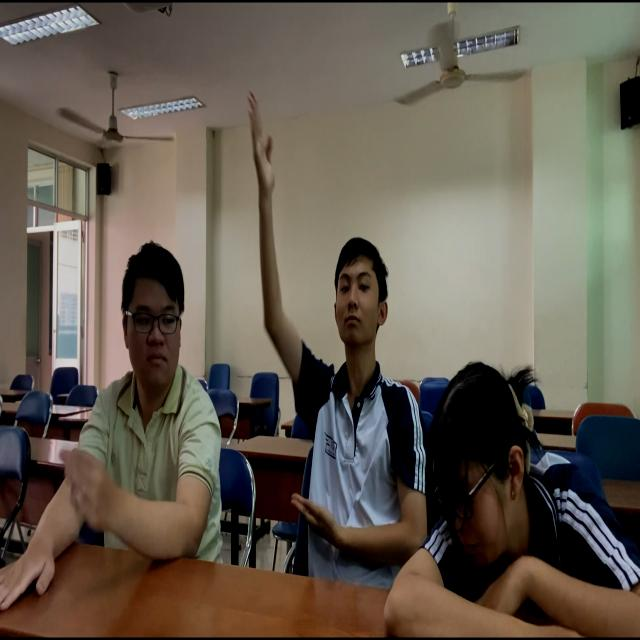raise_hand: (247, 87, 422, 582)
sleep: (389, 367, 640, 640)
